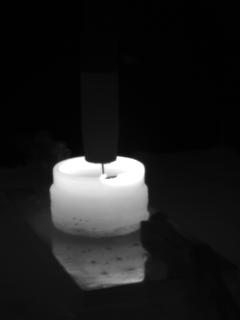tip_wire_left: (84, 159, 105, 178)
tip_wire_right: (101, 158, 117, 179)
